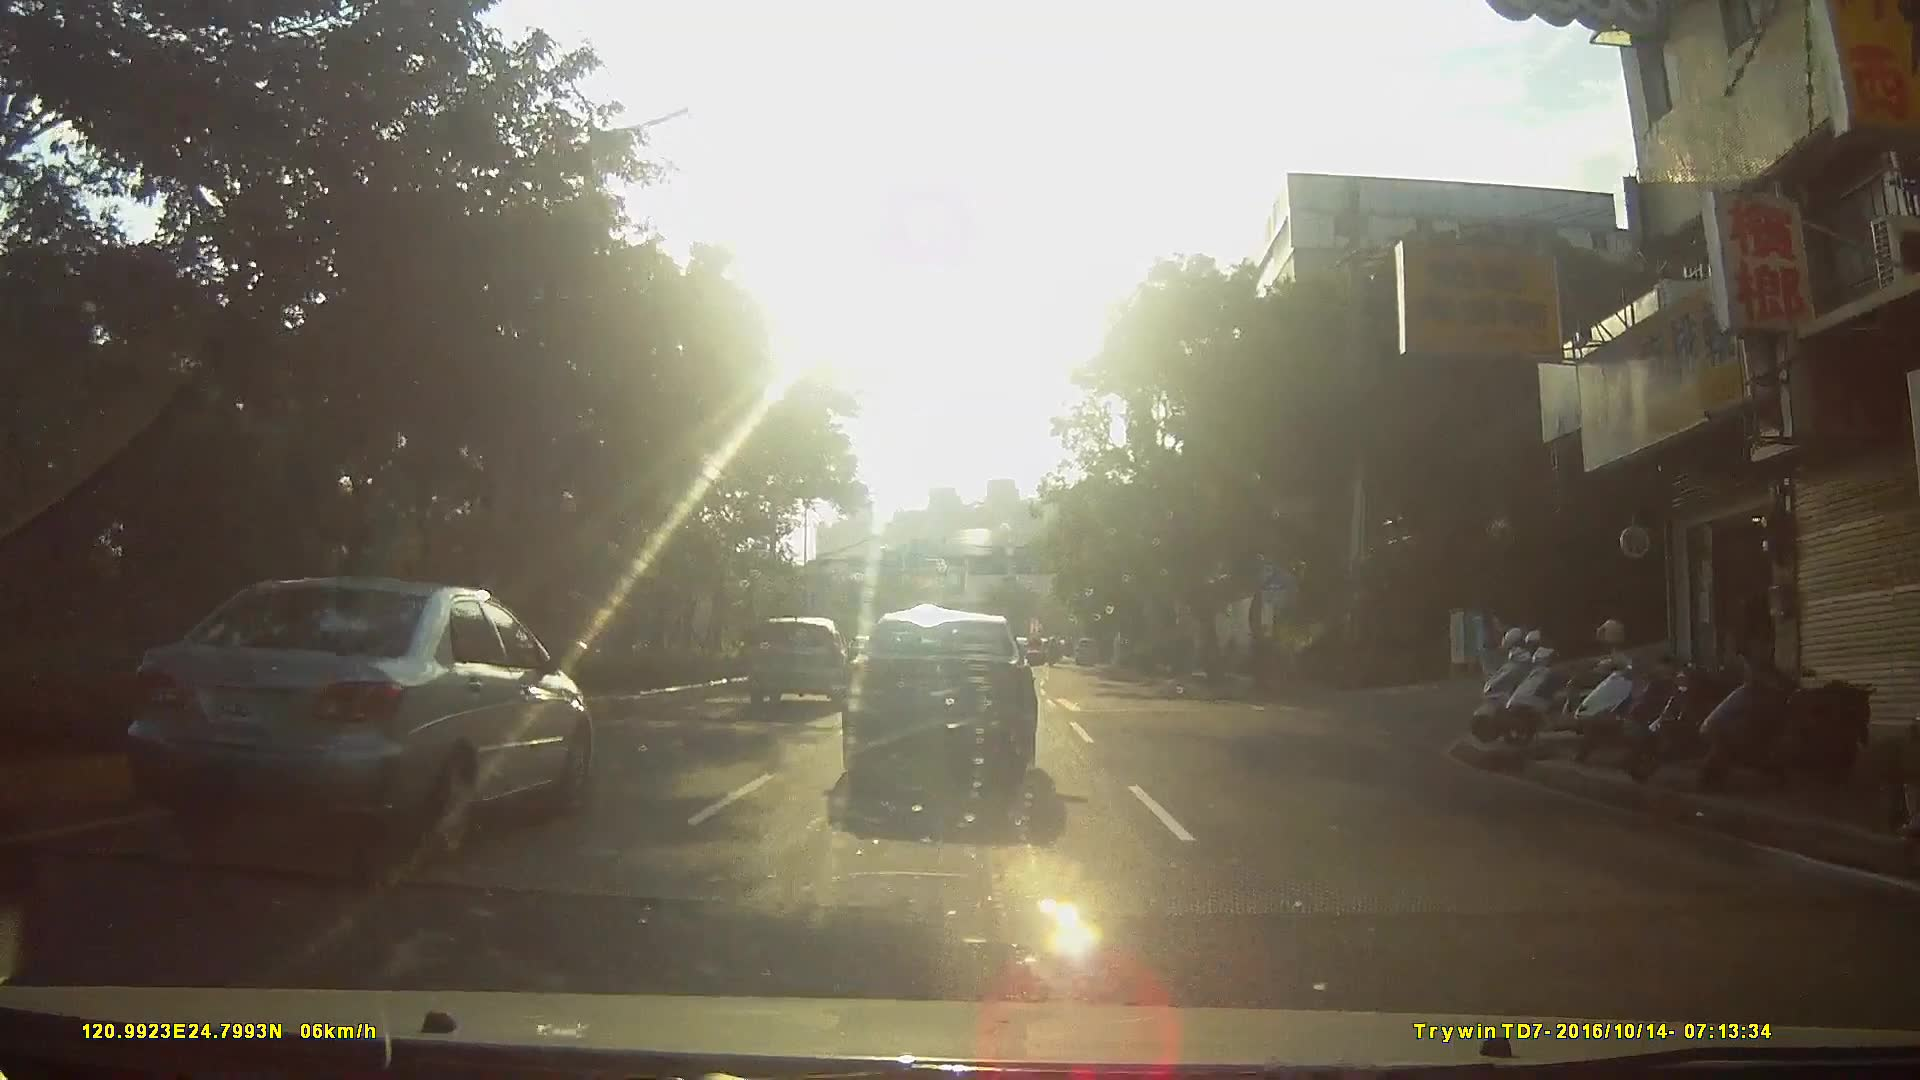pedestrian: (1471, 595, 1519, 699)
vehicle: (74, 578, 600, 875), (845, 611, 1059, 796), (747, 616, 856, 707), (1073, 635, 1105, 666)
